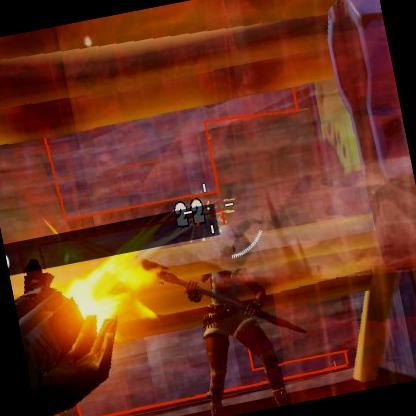person: (183, 271, 293, 416)
